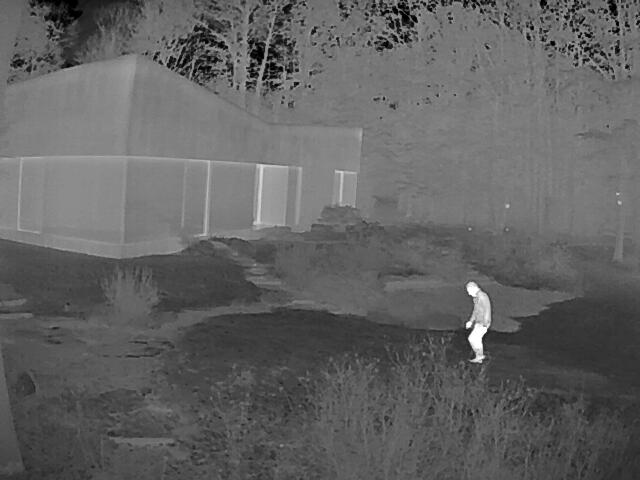person: (461, 281, 490, 361)
